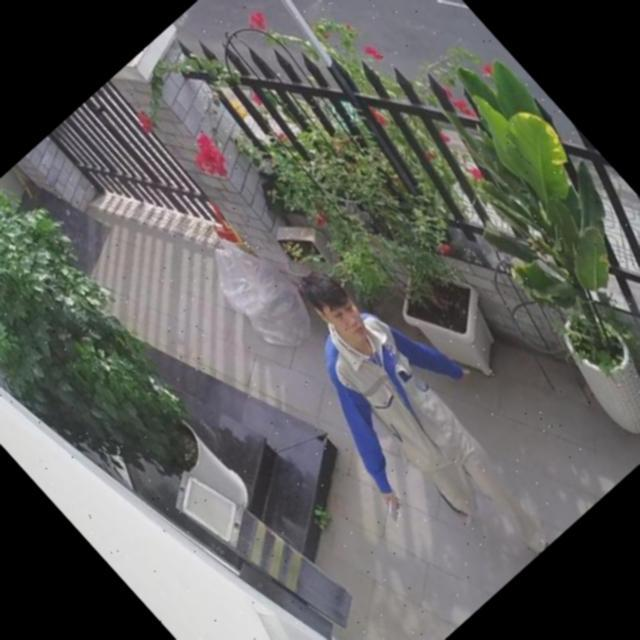person: (236, 236, 590, 606)
